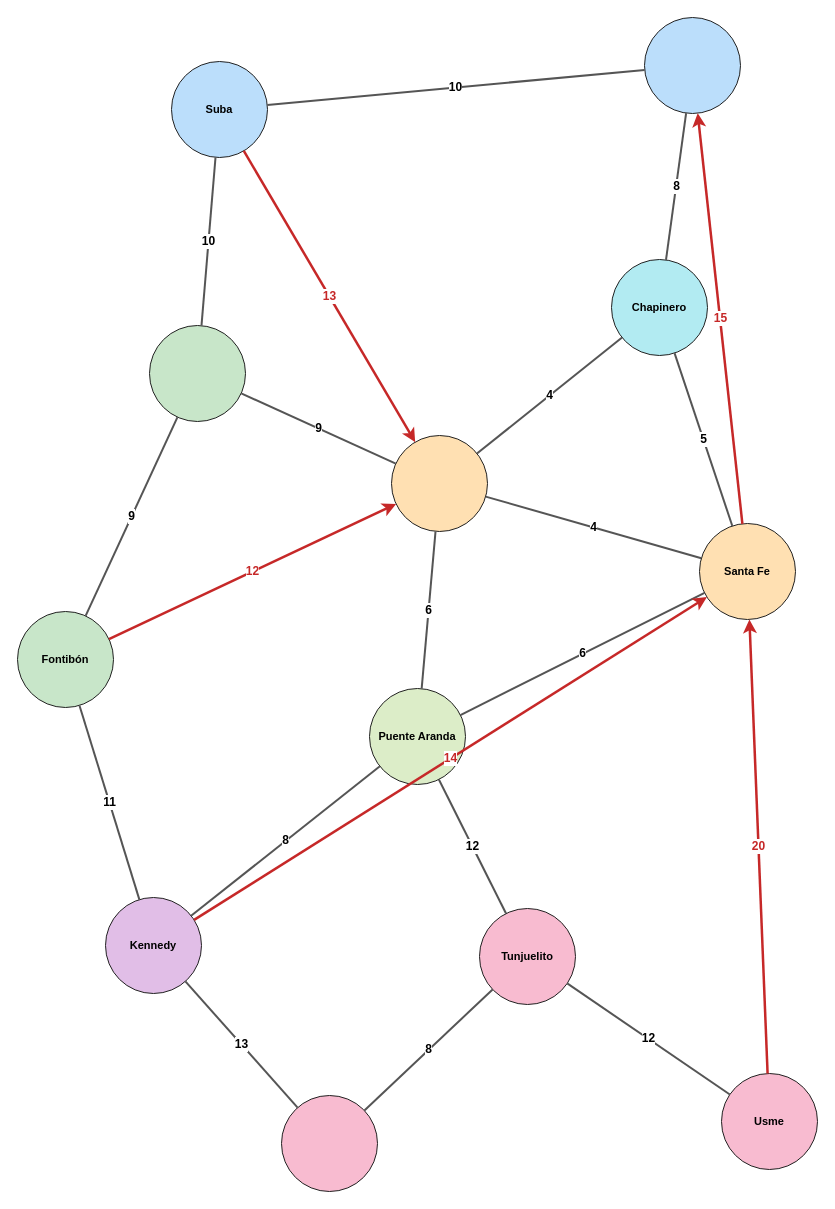
Some shapes in this 835 by 1209 pixel diagram are drawn without their labels. Each missing label, with the centre of its shape:
Ciudad Bolívar: the point at 329,1143
Engativá: the point at 197,373
Teusaquillo: the point at 439,483
Usaquén: the point at 692,65
